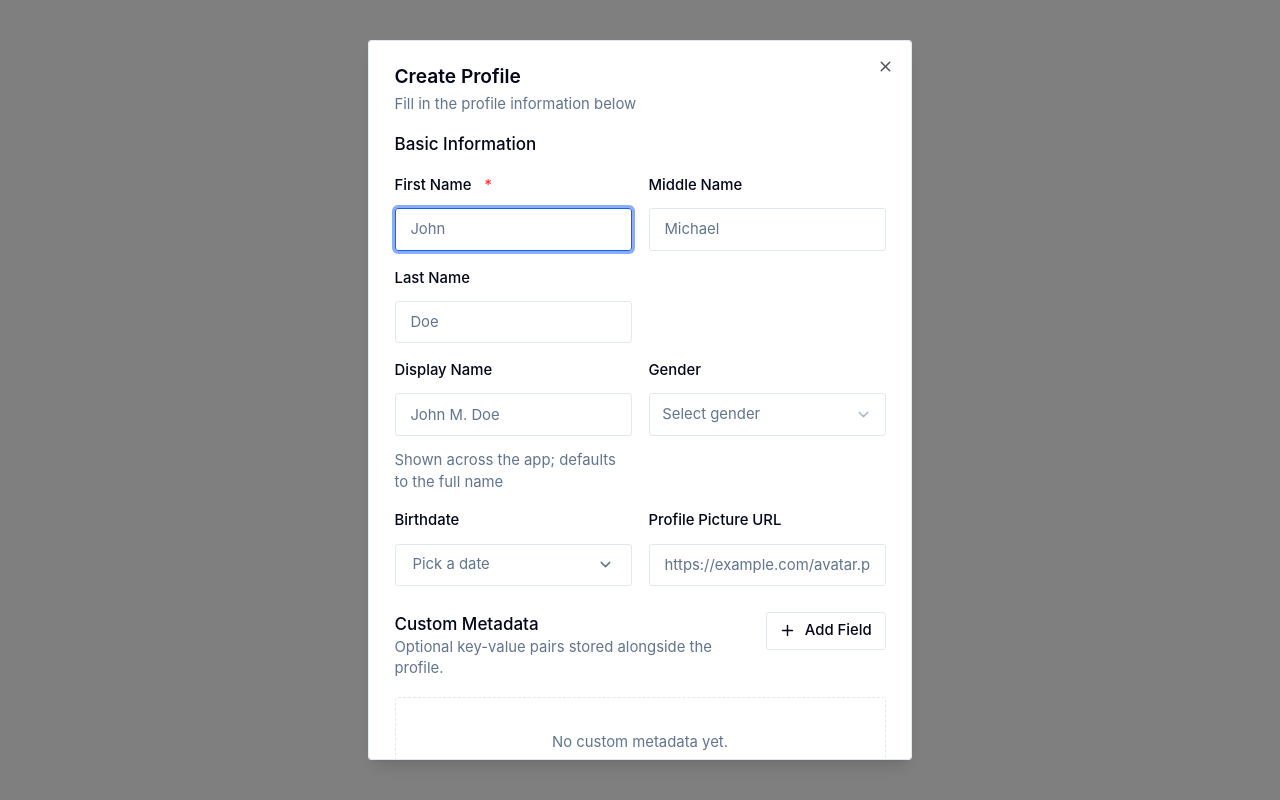
Test: ProfileFormDialog › adds and removes custom metadata fields
The image size is (1280, 800).
Click the button "Add Field": (826, 631) [766,612,886,650]
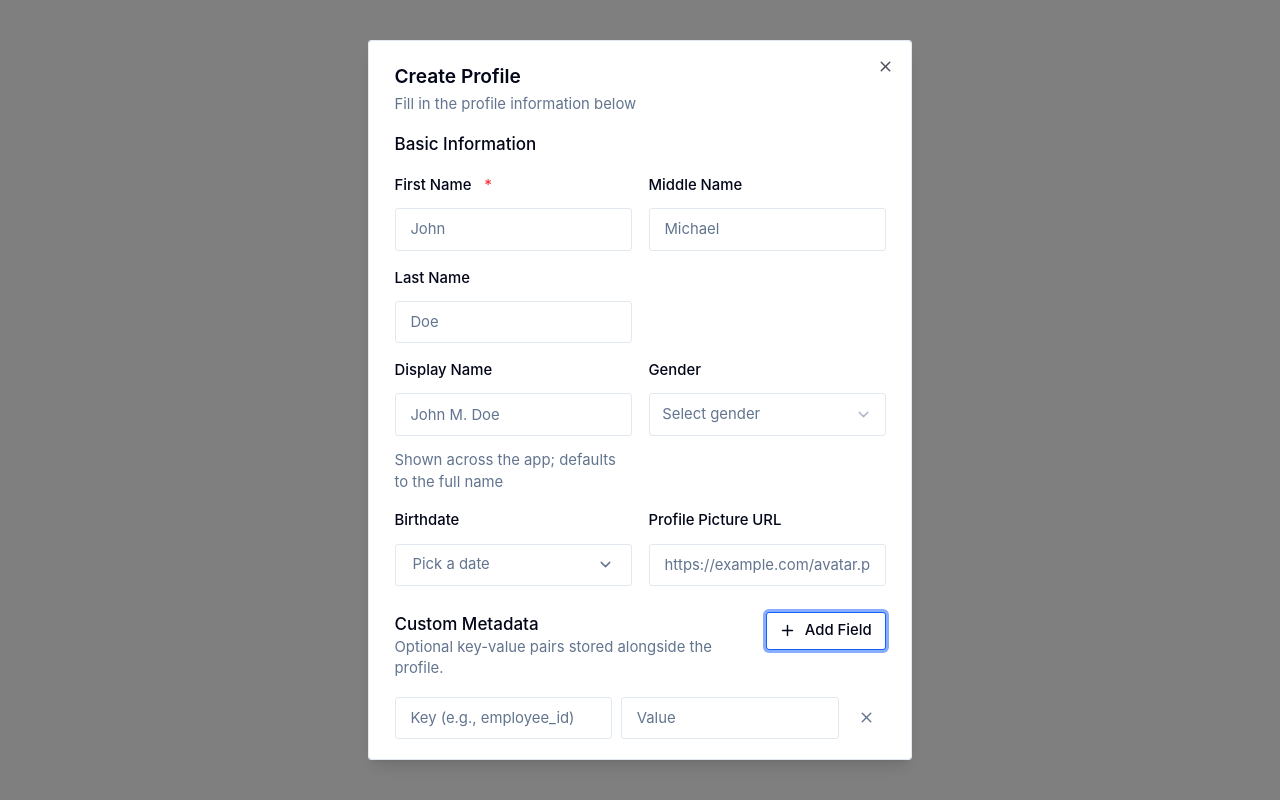
Now the field named "Metadata key" is shown, box [394,697,612,739]
Click the button named "remove field" below "Profile Picture URL": (866, 718) [847,699,886,737]
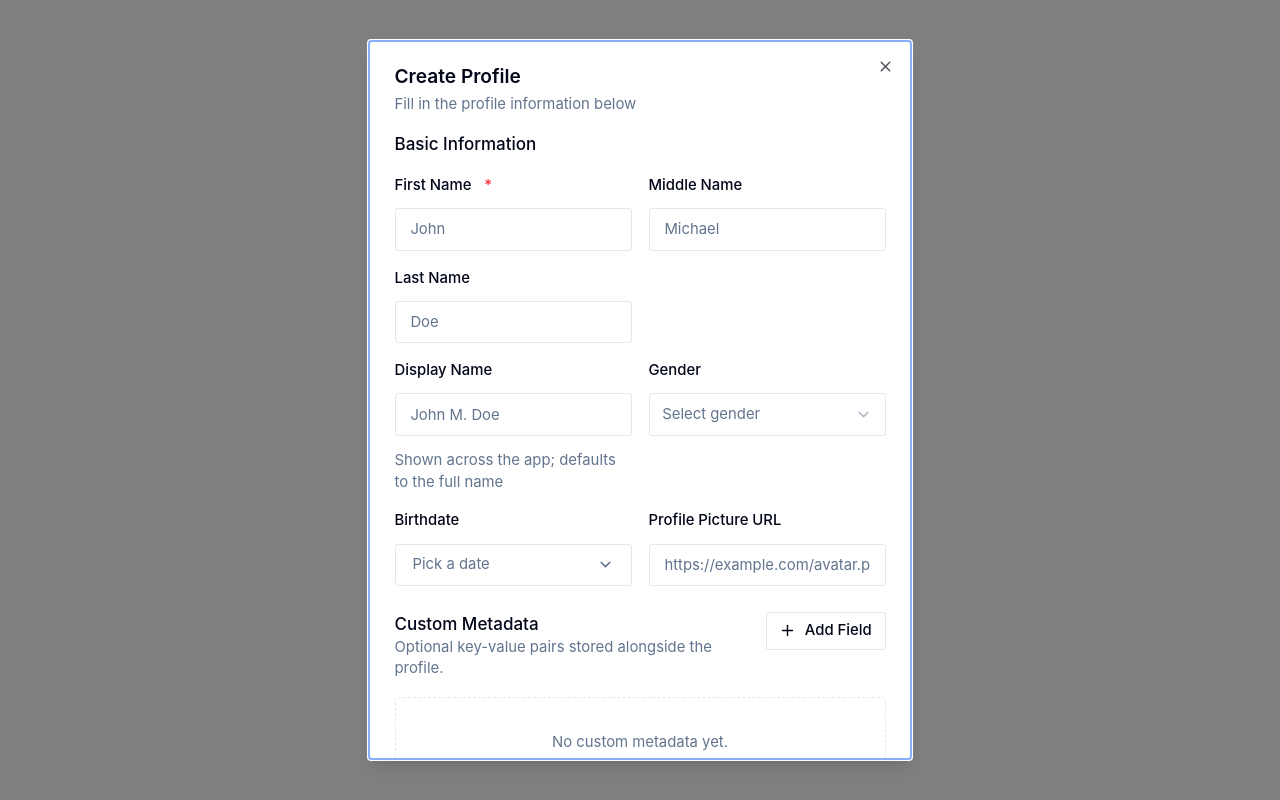
Now the text "No custom metadata yet." is shown, box [552,733,728,751]
